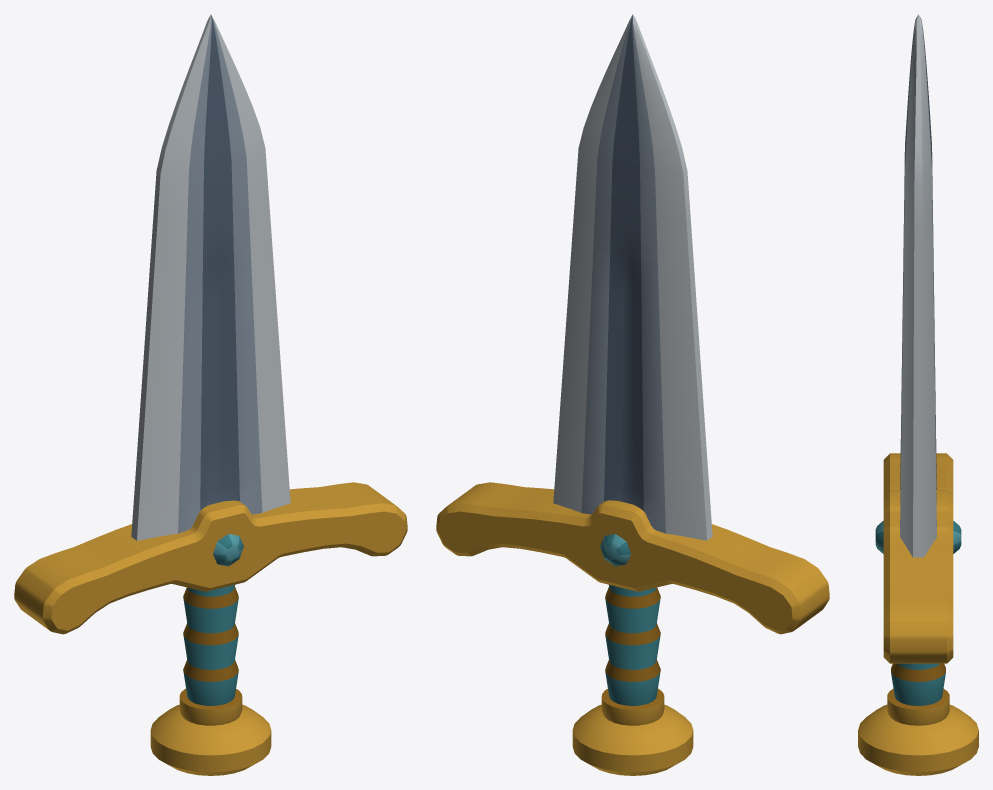
File: Broadsword_19.glb
3 renders of one model, left to right at view 1: azimuth 30°, elevation 25°; view 2: azimuth 150°, elevation 25°; view 3: azimuth 270°, elevation 25°, orthographic.
Parts seen in each view (by area): view 1: Broadsword_19; view 2: Broadsword_19; view 3: Broadsword_19.
Part boxes in pixels (box(x1,y1,x2,y2)): Broadsword_19: box(14, 14, 407, 775); Broadsword_19: box(436, 14, 829, 775); Broadsword_19: box(858, 14, 978, 775).
Size of the model in its own units: 2.97 by 5.77 by 0.8502.
